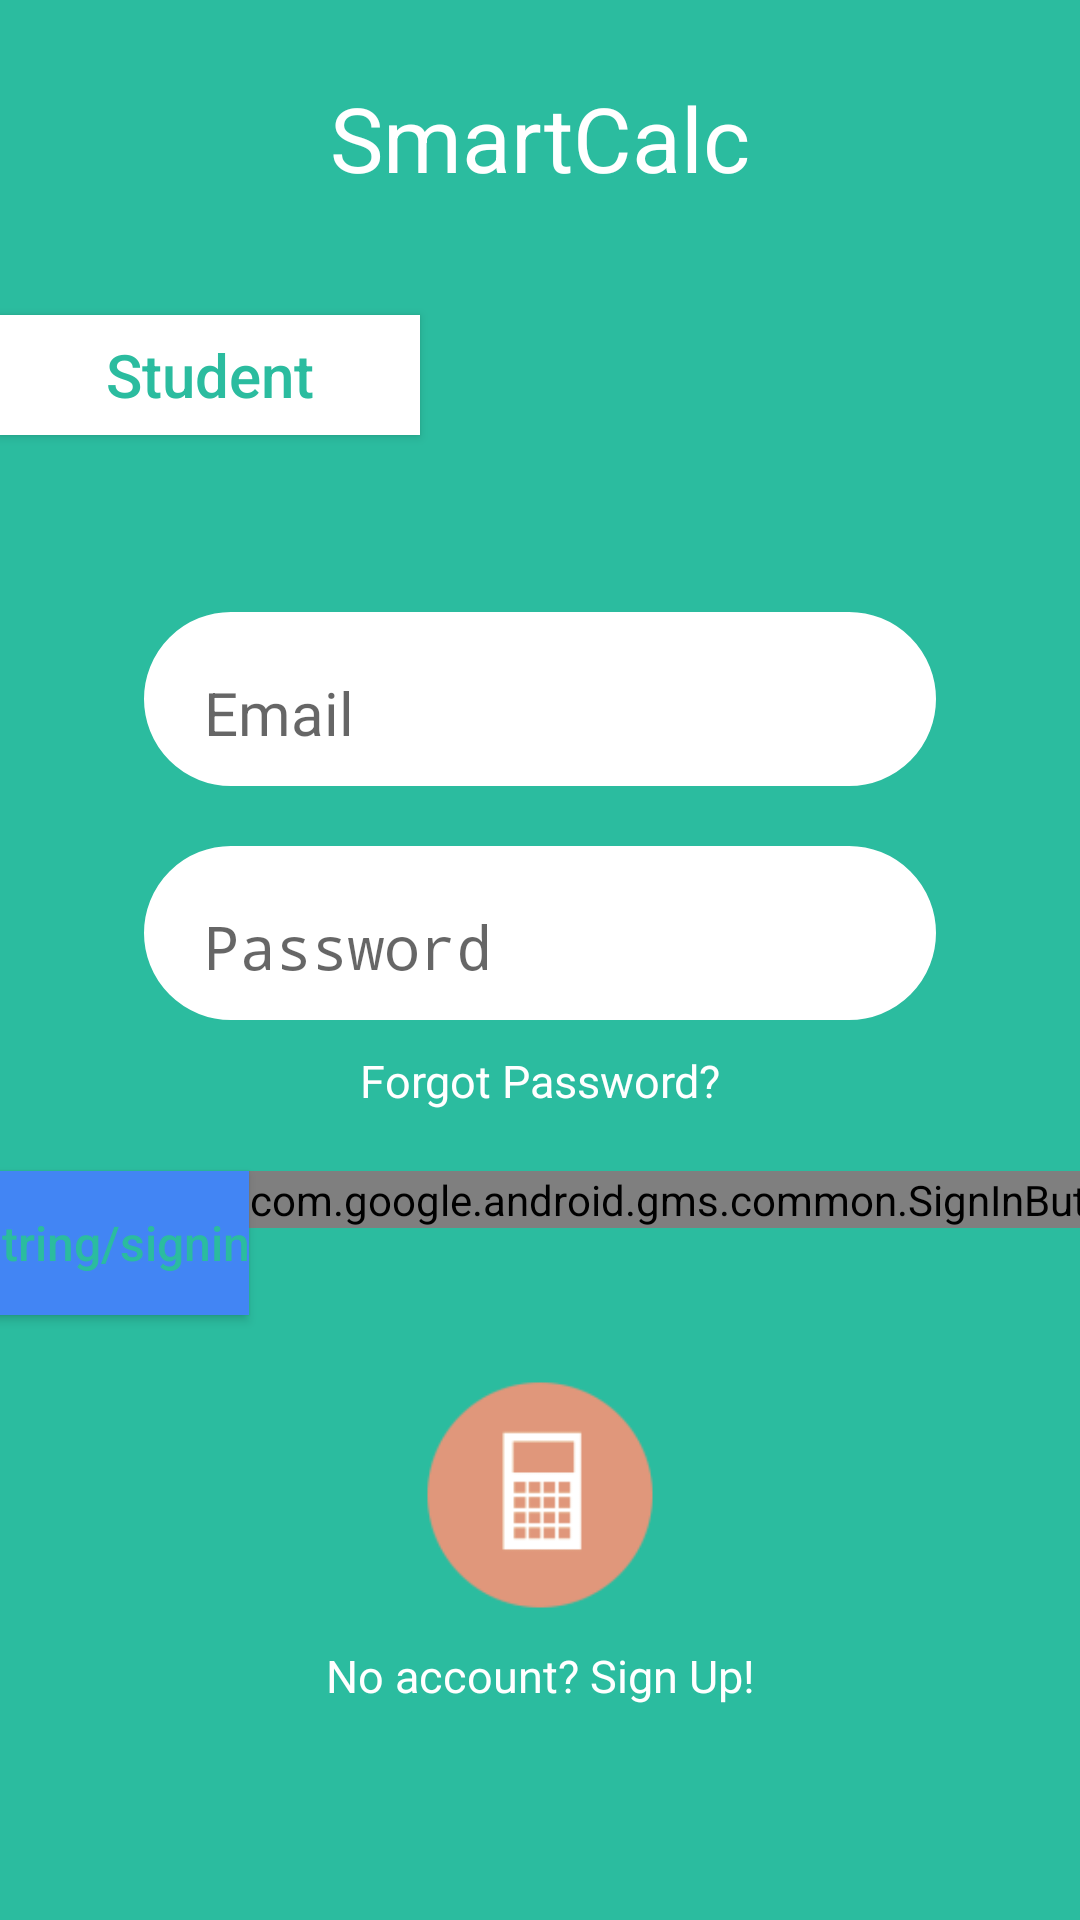

Where icons sit on this 1080 x 1920 app screen, as (x1, y1, x2, y2):
if calculatorsvg: (427, 1382, 653, 1608)
